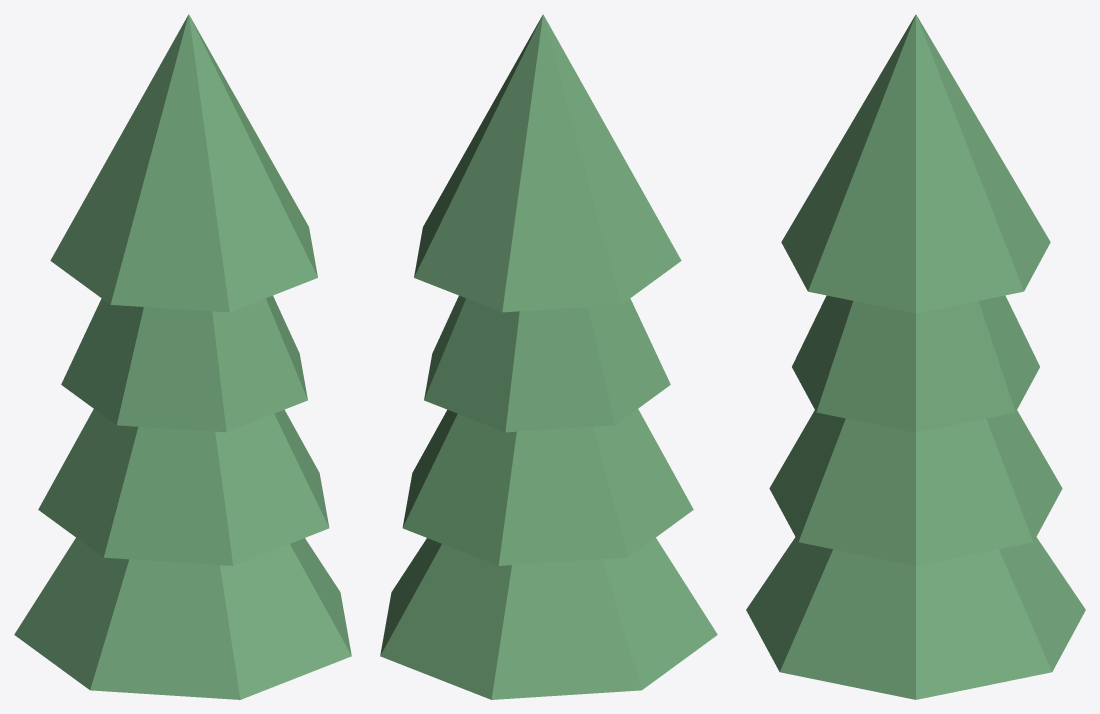
Rendered from town_pine_tree.glb.
The picture shows the model from 3 angles, left to right: view 1: azimuth 30°, elevation 25°; view 2: azimuth 150°, elevation 25°; view 3: azimuth 270°, elevation 25°; orthographic projection.
Parts seen in each view (by area): view 1: world; view 2: world; view 3: world.
Part boxes in pixels (box(x1,y1,x2,y2)): world: box(14, 14, 351, 699); world: box(380, 14, 717, 699); world: box(746, 14, 1085, 699).
Bounding box in the file's own units: 0.981 × 2 × 1.01.
